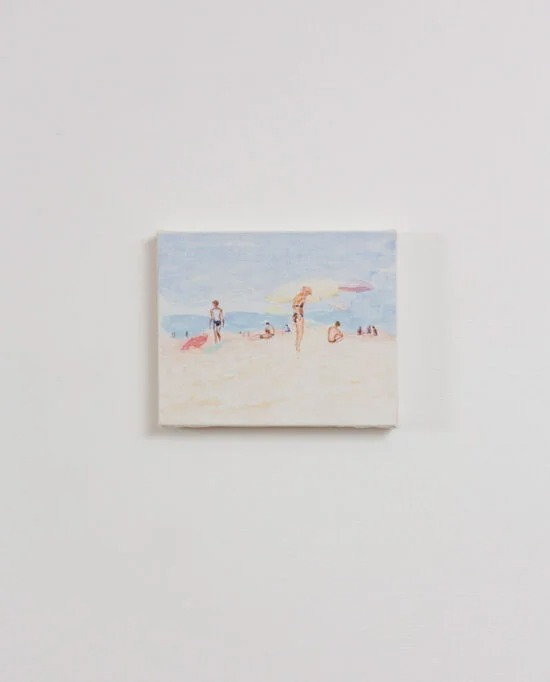painting: (157, 230, 398, 429)
